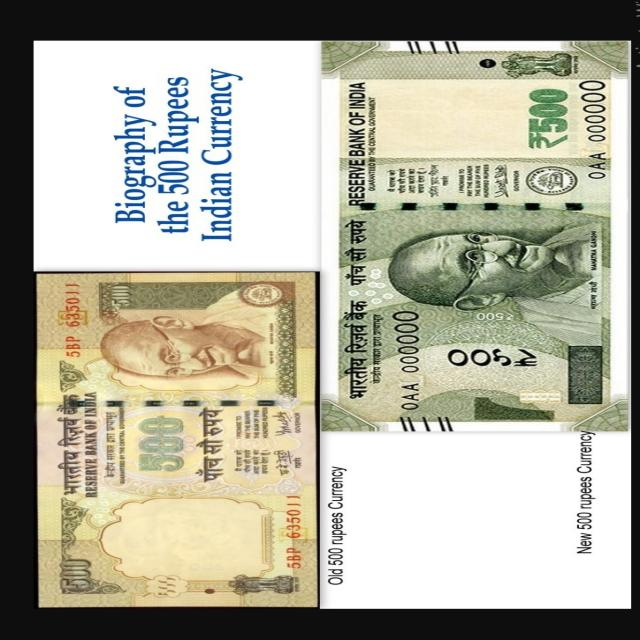500IndianRupees: (324, 43, 632, 430)
